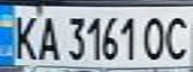1: (118, 12, 142, 61), (84, 12, 103, 61)
3: (63, 12, 84, 61)
6: (100, 12, 124, 61)
A: (33, 11, 63, 62)
C: (160, 11, 193, 61)
K: (6, 10, 42, 62)
O: (139, 11, 172, 62)
